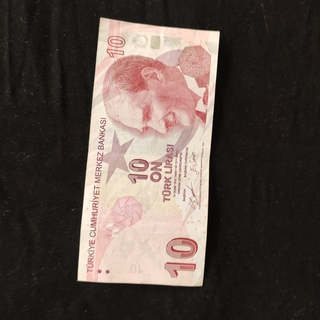10TLFront: (76, 16, 221, 288)
